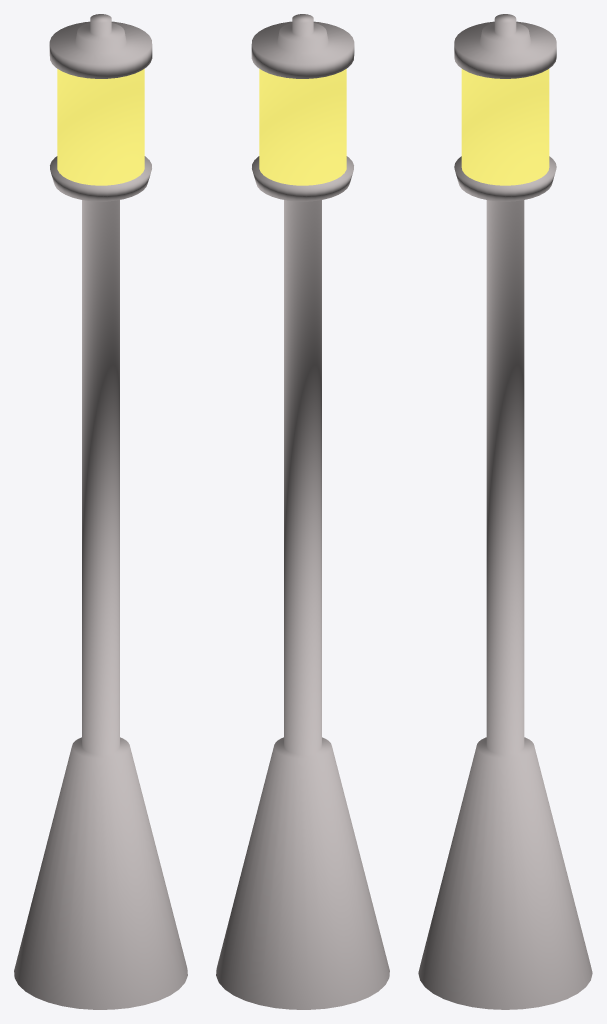
Rendered from linterno.glb.
3 views of the same model, side by side, from view 1: azimuth 30°, elevation 25°; view 2: azimuth 150°, elevation 25°; view 3: azimuth 270°, elevation 25° (orthographic).
Visible parts, largest first — view 1: Circle-col; view 2: Circle-col; view 3: Circle-col.
Boxes of the visible parts, x1,y1,x2,y2 form: Circle-col: (14,14,187,1009); Circle-col: (216,14,389,1009); Circle-col: (418,14,592,1009).
Size of the model in its own units: 2 by 12.09 by 2.
